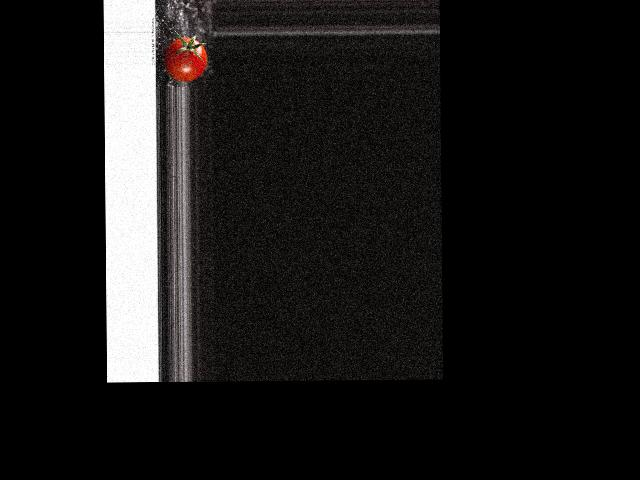tomato: (164, 37, 207, 81)
